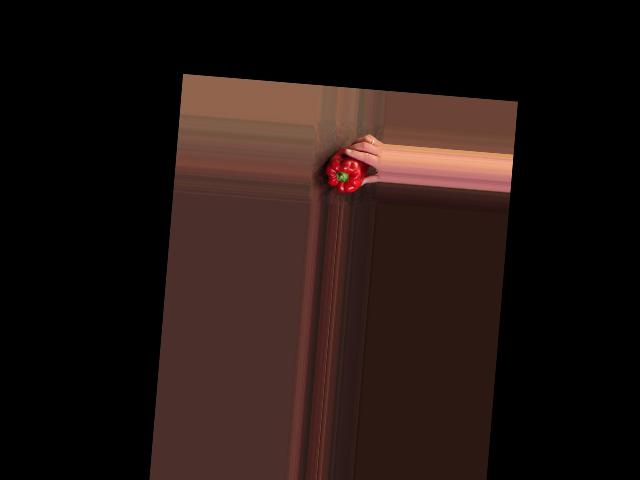bell_pepper: (323, 148, 368, 195)
